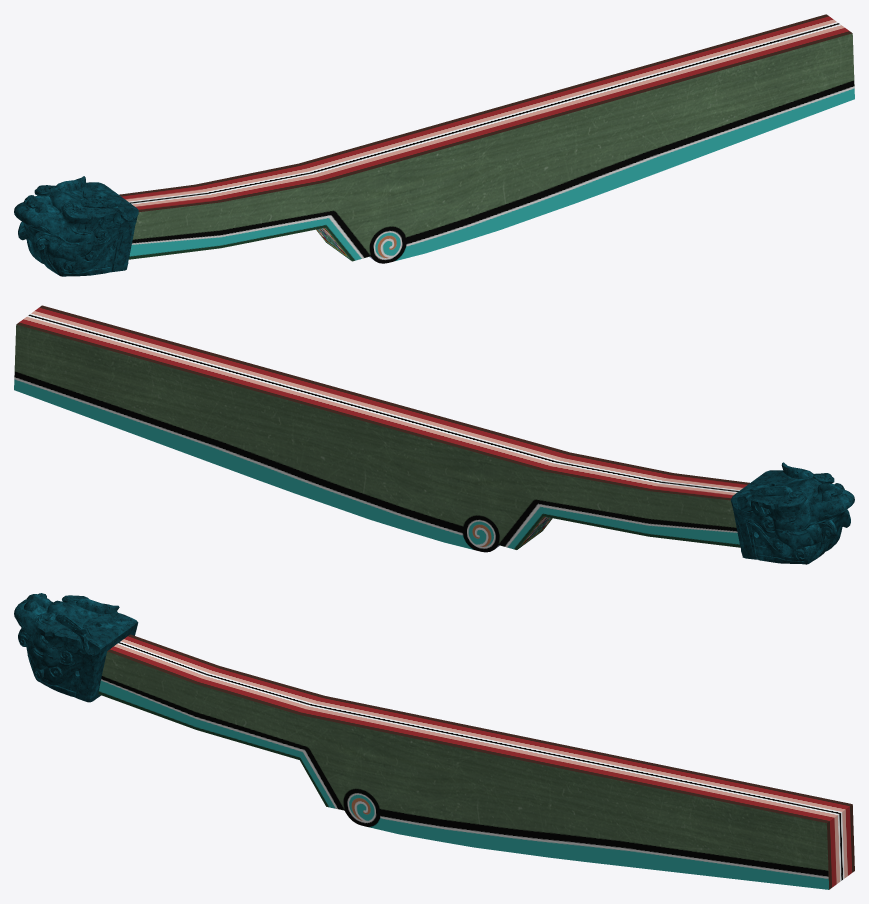
The model's file is SM_AngleRafter02A.fbx.
3 views of the same model, one above another, from view 1: azimuth 30°, elevation 25°; view 2: azimuth 150°, elevation 25°; view 3: azimuth 330°, elevation 25° (orthographic).
Parts seen in each view (by area): view 1: SM_AngleRafter02A; view 2: SM_AngleRafter02A; view 3: SM_AngleRafter02A.
Part boxes in pixels (bbox=[...]): SM_AngleRafter02A: bbox=[14, 14, 854, 276]; SM_AngleRafter02A: bbox=[14, 305, 854, 564]; SM_AngleRafter02A: bbox=[14, 593, 854, 889].
Bounding box in the file's own units: 526 × 49.87 × 85.33.
